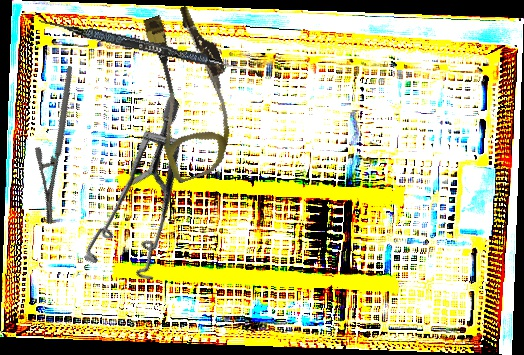Cannula: (122, 0, 256, 185)
Needle Holder: (0, 65, 120, 226)
Spatula Surgical: (37, 17, 265, 78)
Speculum: (37, 93, 255, 305)
